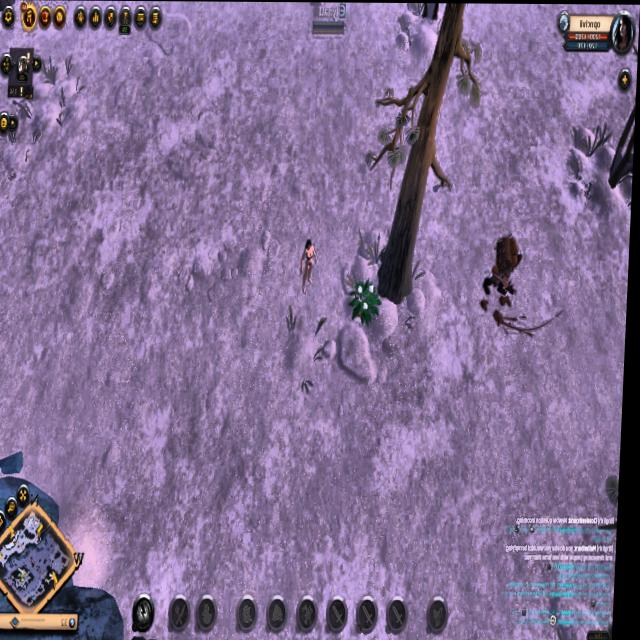copper_ore: (0, 376, 2, 426)
flax: (350, 275, 387, 328)
mob: (482, 227, 530, 301)
